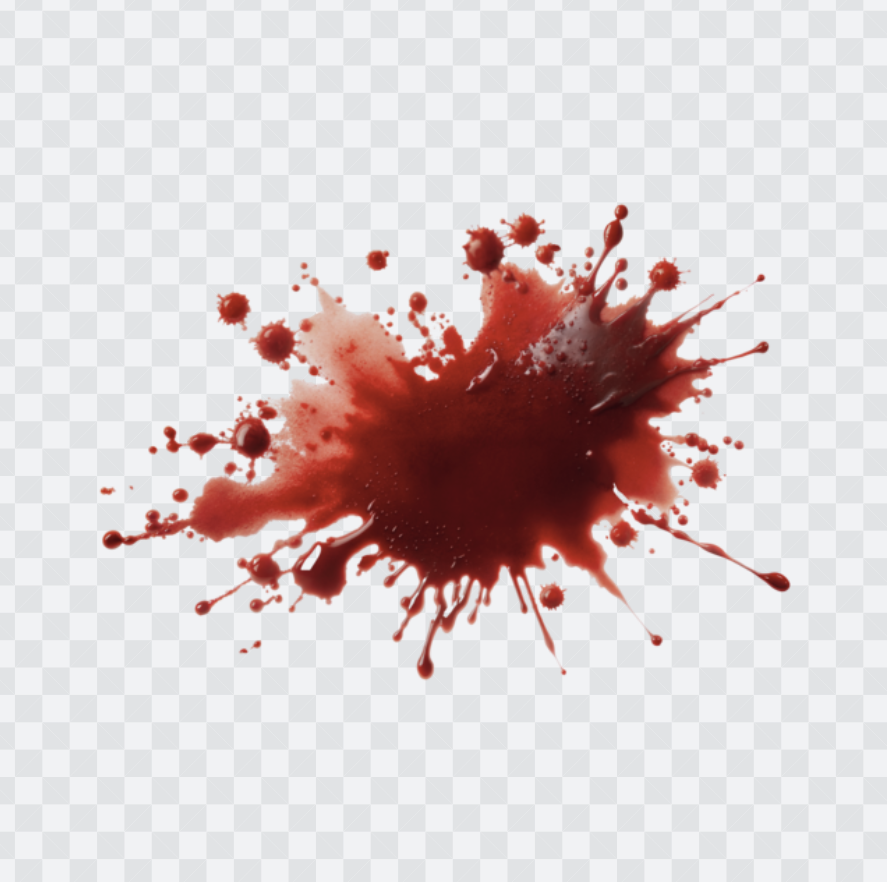blood_3.png: (97, 203, 796, 692)
